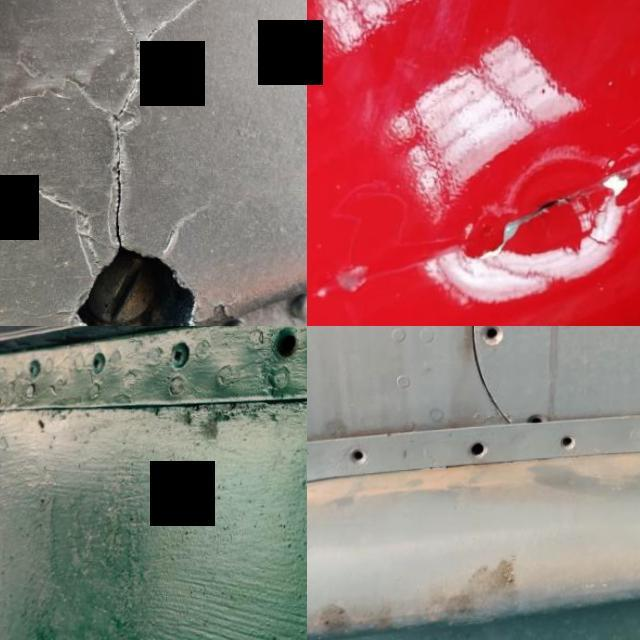Crack: (29, 91, 257, 326), (377, 159, 640, 290)
Missing_Fastener: (247, 326, 307, 388), (512, 394, 565, 444), (458, 427, 503, 472), (337, 432, 381, 478), (468, 326, 517, 363), (552, 424, 590, 462)
